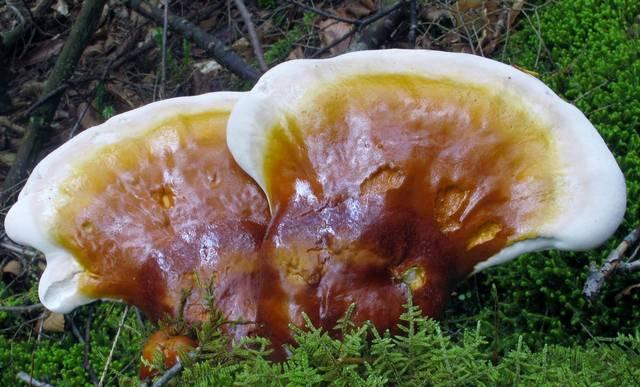poisonous_mushroom: (3, 46, 627, 372)
